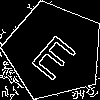E: (29, 26, 86, 82)
